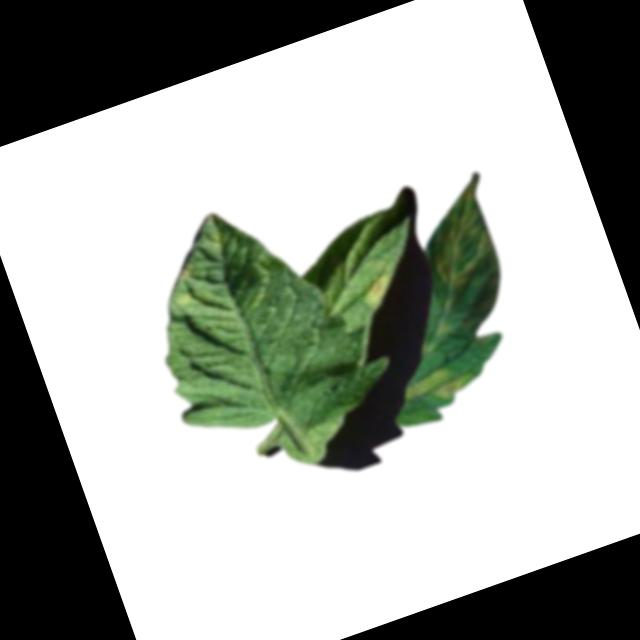Leaf_Mold: (407, 168, 514, 295), (397, 358, 480, 414), (161, 260, 208, 317), (351, 266, 400, 311)
